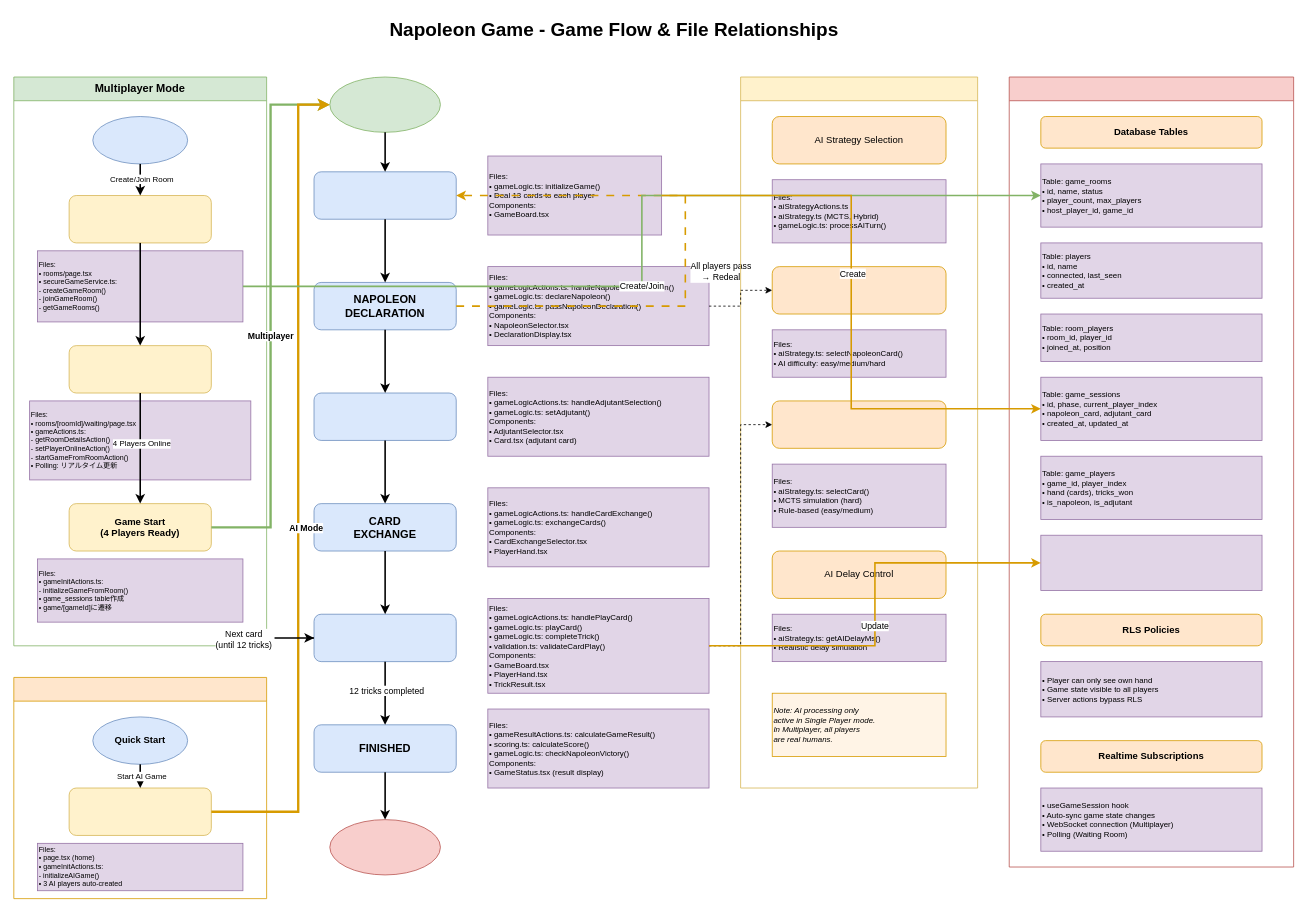
Image size: 1307x912. Some labels were removed from this diagram. Each missing label, with the box of its shape:
ADJUTANT SELECTION: (313, 392, 456, 440)
AI Card Selection: (771, 400, 946, 448)
AI Game Init: (68, 787, 211, 835)
AI Napoleon Declaration: (771, 266, 946, 314)
AI Processing (Single Player Only): (740, 76, 978, 788)
Data Layer (Supabase): (1008, 76, 1294, 867)
End: (329, 819, 440, 875)
Game Initialized: (329, 76, 440, 132)
Home Page: (92, 116, 188, 164)
INITIALIZATION: (313, 171, 456, 219)
PLAYING (Tricks): (313, 613, 456, 662)
Rooms Page: (68, 195, 211, 243)
Single Player Mode (AI): (13, 677, 267, 899)
Table: game_tricks • game_id, trick_number • cards, winner • completed: (1040, 534, 1262, 591)
Waiting Room: (68, 345, 211, 393)
